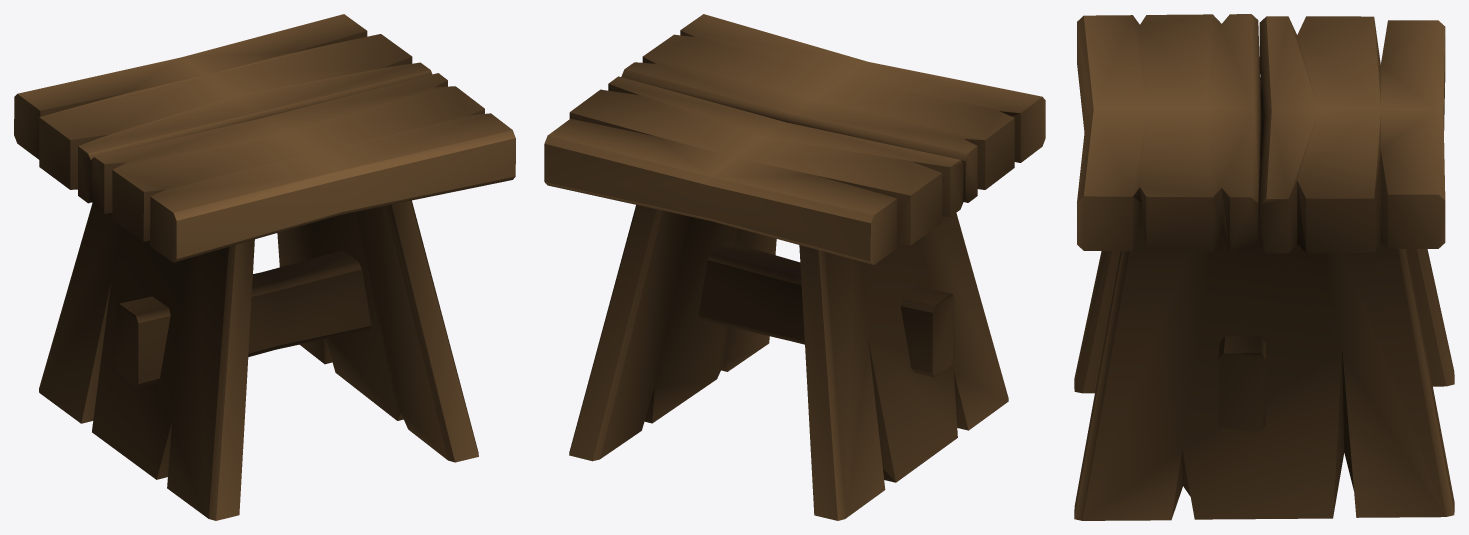
Rendered from obj_benchSmall.FBX.
3 views of the same model, side by side, from view 1: azimuth 30°, elevation 25°; view 2: azimuth 150°, elevation 25°; view 3: azimuth 270°, elevation 25° (orthographic). The views are drawn at different scales.
Visible parts, largest first — view 1: obj_benchSmall; view 2: obj_benchSmall; view 3: obj_benchSmall.
Boxes of the visible parts, box(x1,y1,x2,y2) form: obj_benchSmall: box(14, 14, 515, 520); obj_benchSmall: box(544, 14, 1045, 520); obj_benchSmall: box(1074, 14, 1454, 520).
Bounding box in the file's own units: 1.29 × 1.13 × 1.13.
